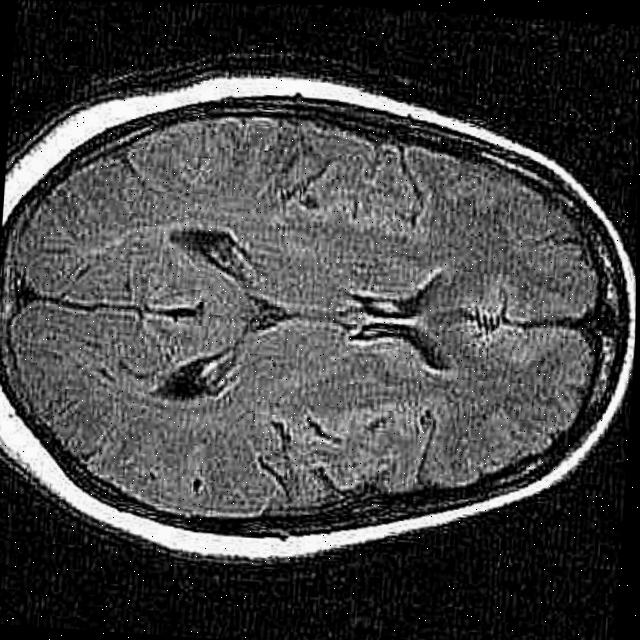NoTumor: (0, 51, 639, 594)
